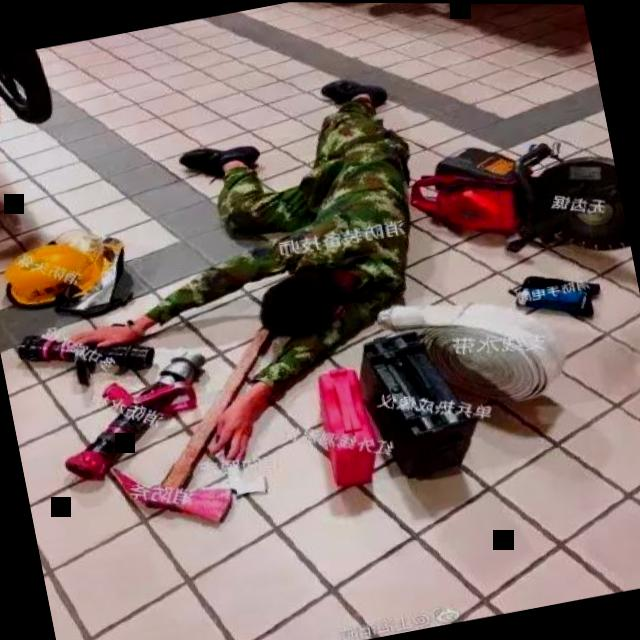Fall-Detected: (0, 64, 485, 498)
